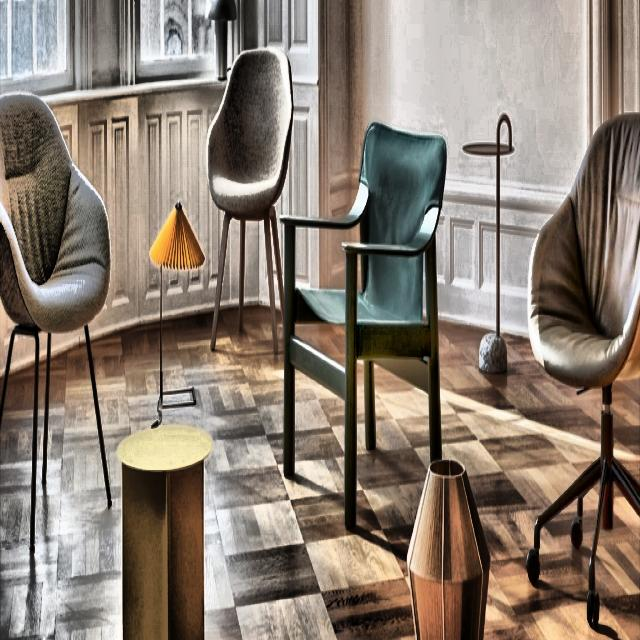cadeira: (278, 117, 450, 532), (524, 100, 640, 628), (0, 88, 116, 562), (202, 44, 298, 369)
